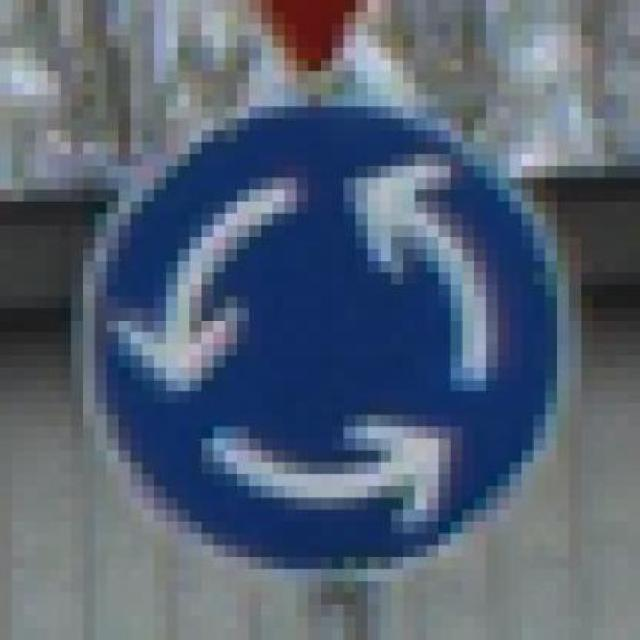Round-About: (23, 71, 605, 592)
